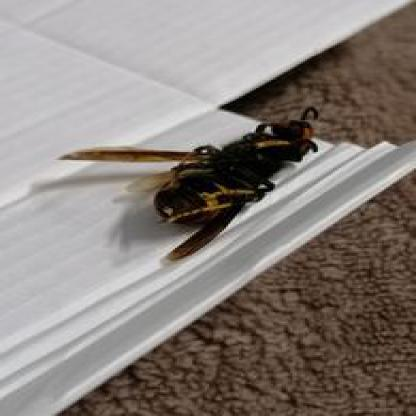Asian Hornet: (56, 106, 333, 264)
